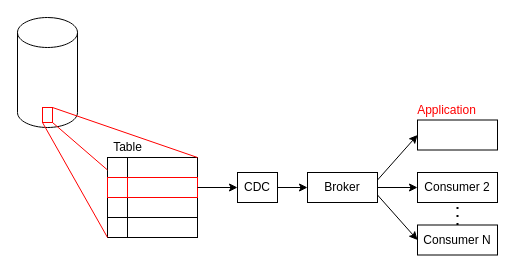
The diagram is 515 pixels wide and 273 high, and some of its shapes have lost their labels. Each missing label, with the centre of its shape:
"Consumer 1" goes at pixel 457 134.
"Source Data" goes at pixel 47 72.
